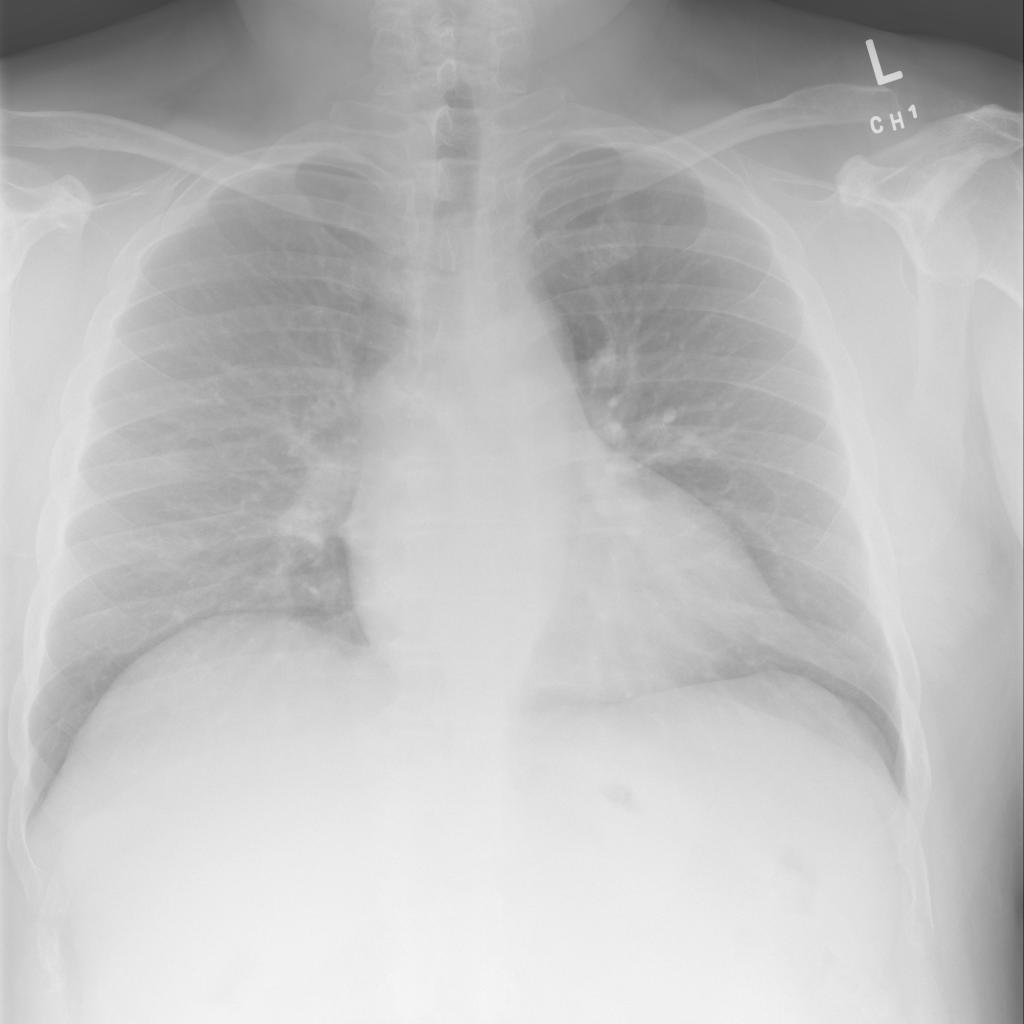Nodule: (61, 37, 79, 59)
